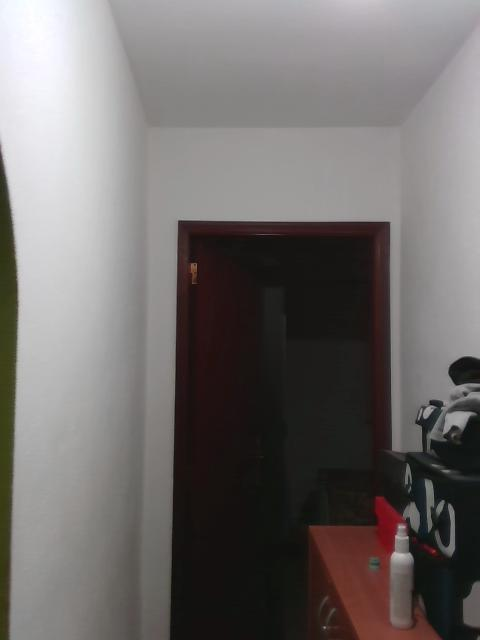open_door: (168, 218, 371, 639)
